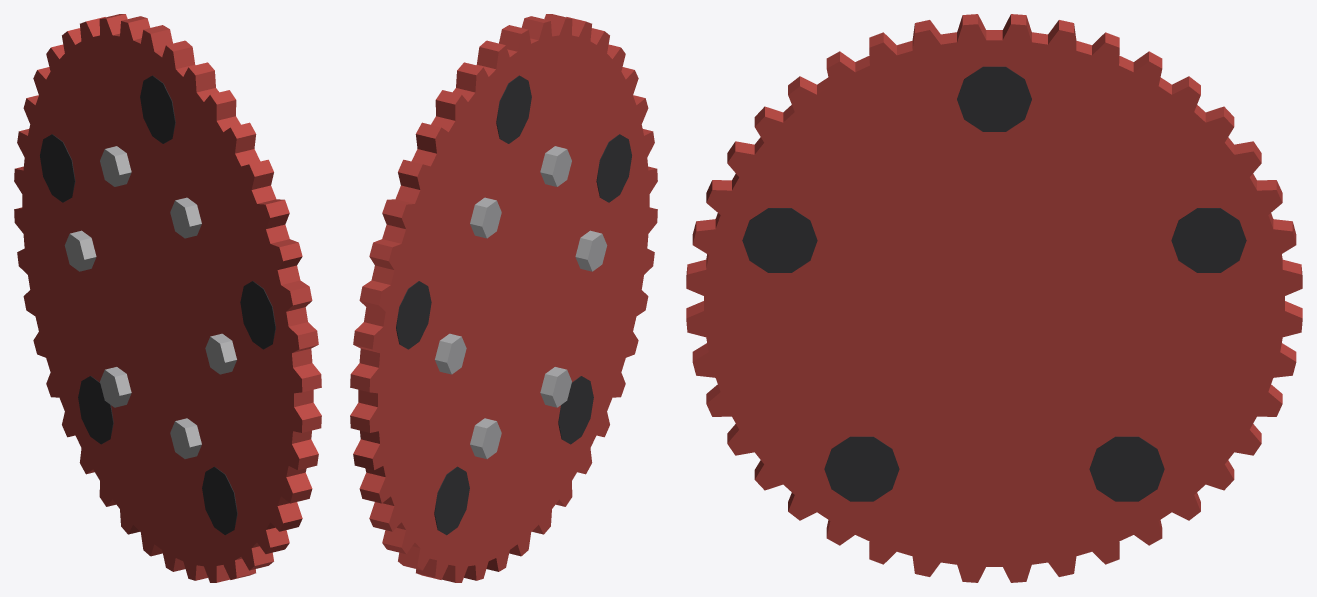
Rendered from rear_40.glb.
The picture shows the model from 3 angles, left to right: view 1: azimuth 30°, elevation 25°; view 2: azimuth 150°, elevation 25°; view 3: azimuth 270°, elevation 25°; orthographic projection. The views are drawn at different scales.
Parts seen in each view (by area): view 1: lod0; view 2: lod0; view 3: lod0.
Boxes of the visible parts, bbox=[...] form: lod0: bbox=[14, 14, 321, 582]; lod0: bbox=[350, 14, 657, 582]; lod0: bbox=[686, 14, 1302, 582].
Size of what is drawn, in the model's own units: 0.0137 by 0.205 by 0.205.
